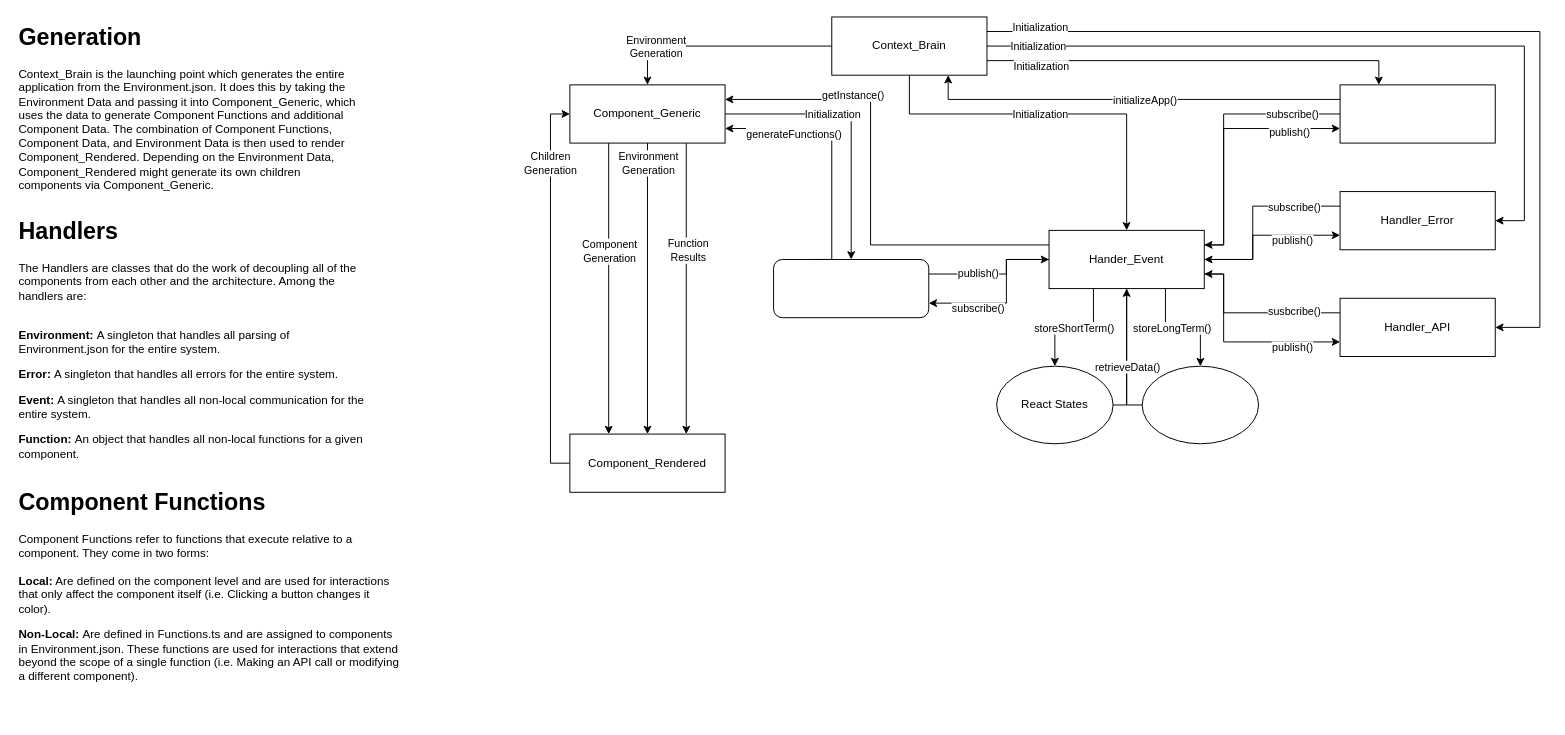
Some shapes in this 1565 by 735 pixel diagram are drawn without their labels. The box of each missing label's shape, as (x1, y1, x2, y2) in pixels:
Browser Cache: (1141, 365, 1259, 444)
Handler_Environment: (1339, 84, 1495, 143)
handler_function: (773, 259, 929, 318)
